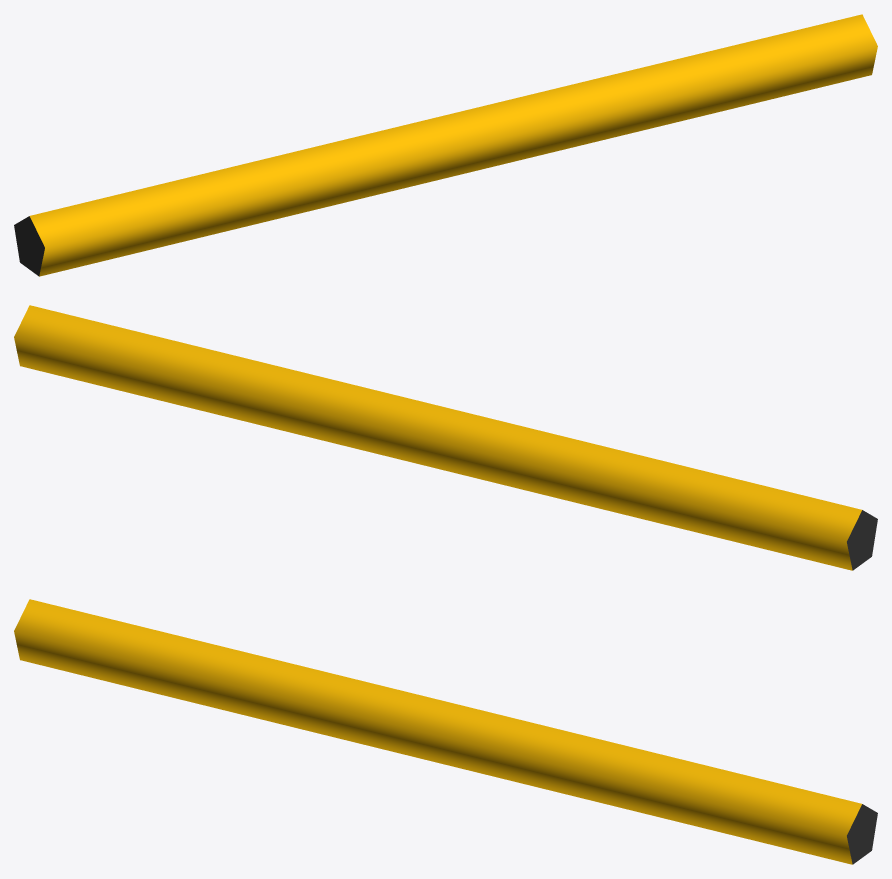
The model's file is pipeset1_pipe2.fbx.
3 views of the same model, one above another, from view 1: azimuth 30°, elevation 25°; view 2: azimuth 150°, elevation 25°; view 3: azimuth 330°, elevation 25° (orthographic).
Visible parts, largest first — view 1: pipeset1_pipe2; view 2: pipeset1_pipe2; view 3: pipeset1_pipe2.
Part boxes in pixels (box(x1,y1,x2,y2)): pipeset1_pipe2: box(14, 14, 877, 276); pipeset1_pipe2: box(14, 305, 877, 570); pipeset1_pipe2: box(14, 599, 877, 864).
Bounding box in the file's own units: 400 × 24.7 × 27.3.
